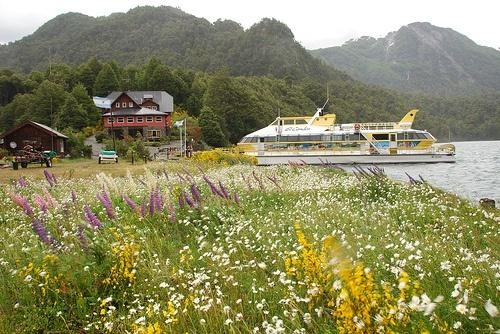boat: (237, 109, 459, 167)
